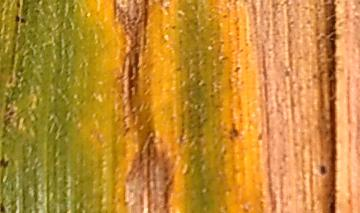tarspot: (228, 126, 240, 141), (1, 157, 9, 169), (319, 166, 327, 176), (1, 202, 6, 212), (15, 15, 20, 24), (21, 18, 27, 25)
